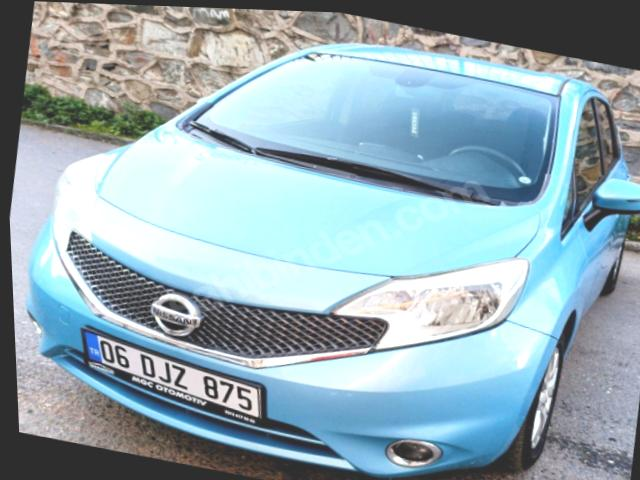plaka: (81, 329, 262, 423)
